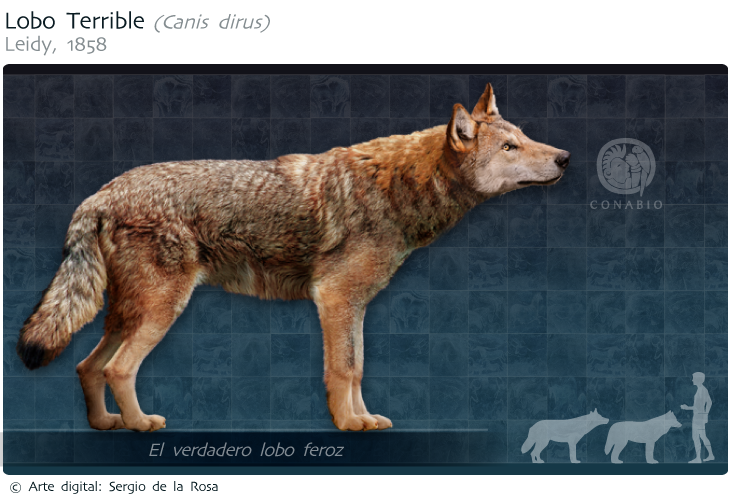Lobo: (29, 86, 552, 435), (599, 400, 684, 465), (520, 411, 607, 466)
